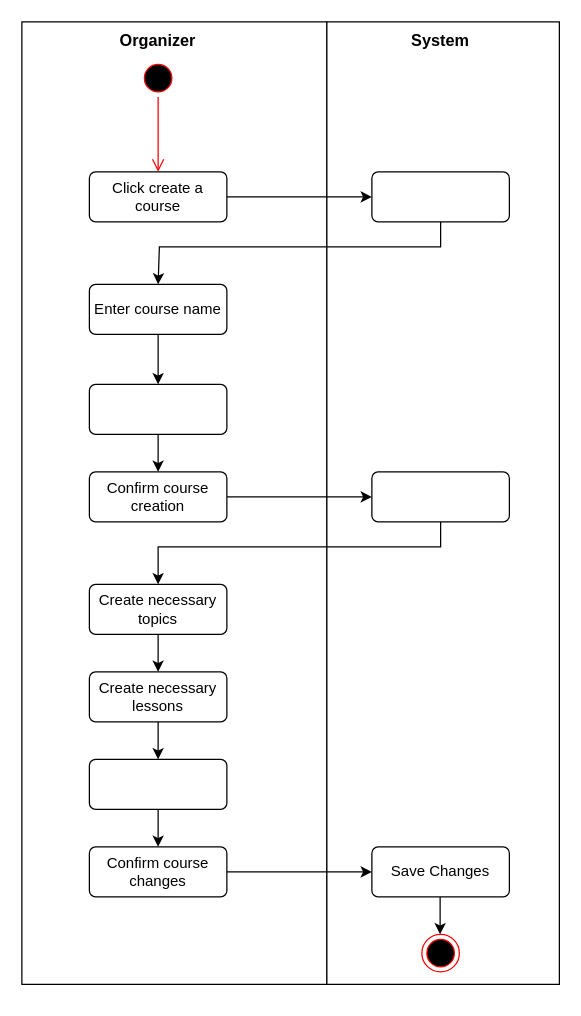
Some shapes in this 581 by 1016 pixel diagram are drawn without their labels. The centre of each missing label's shape, as x and y in pixels:
"Add lesson materials" belongs at point (157, 783).
"Create a course" belongs at point (440, 496).
"Display course creation panel" belongs at point (440, 196).
"Enter course description" belongs at point (157, 408).
